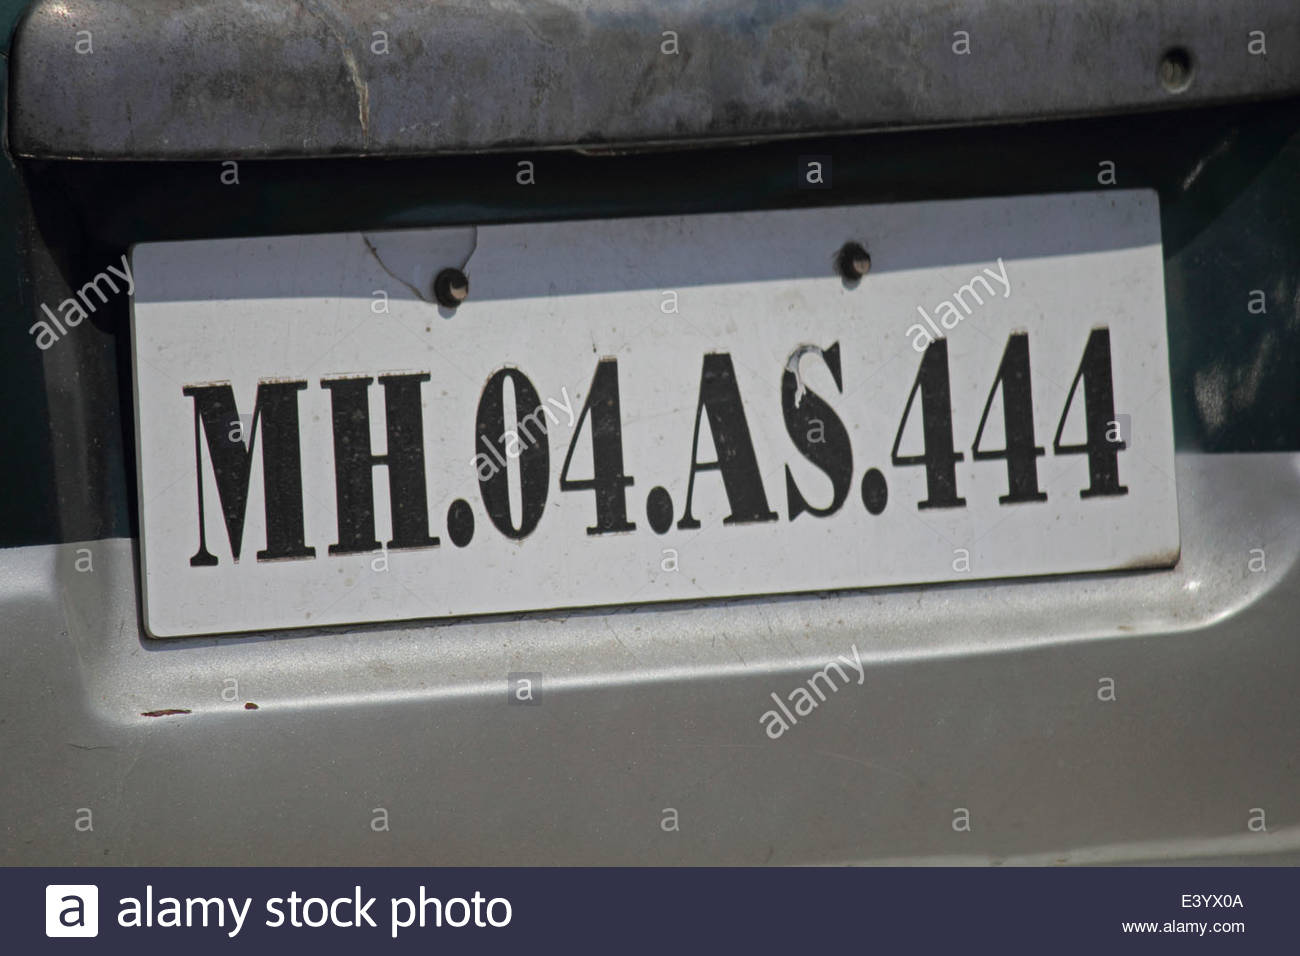numberplate: (117, 205, 1184, 633)
